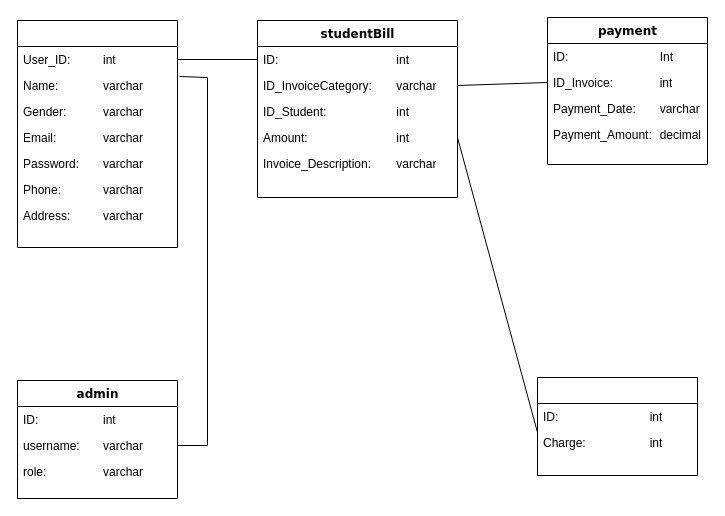
Some shapes in this 725 by 516 pixel diagram are drawn without their labels. Each missing label, with the box of its shape:
category: (536, 376, 698, 476)
student: (16, 20, 178, 248)
